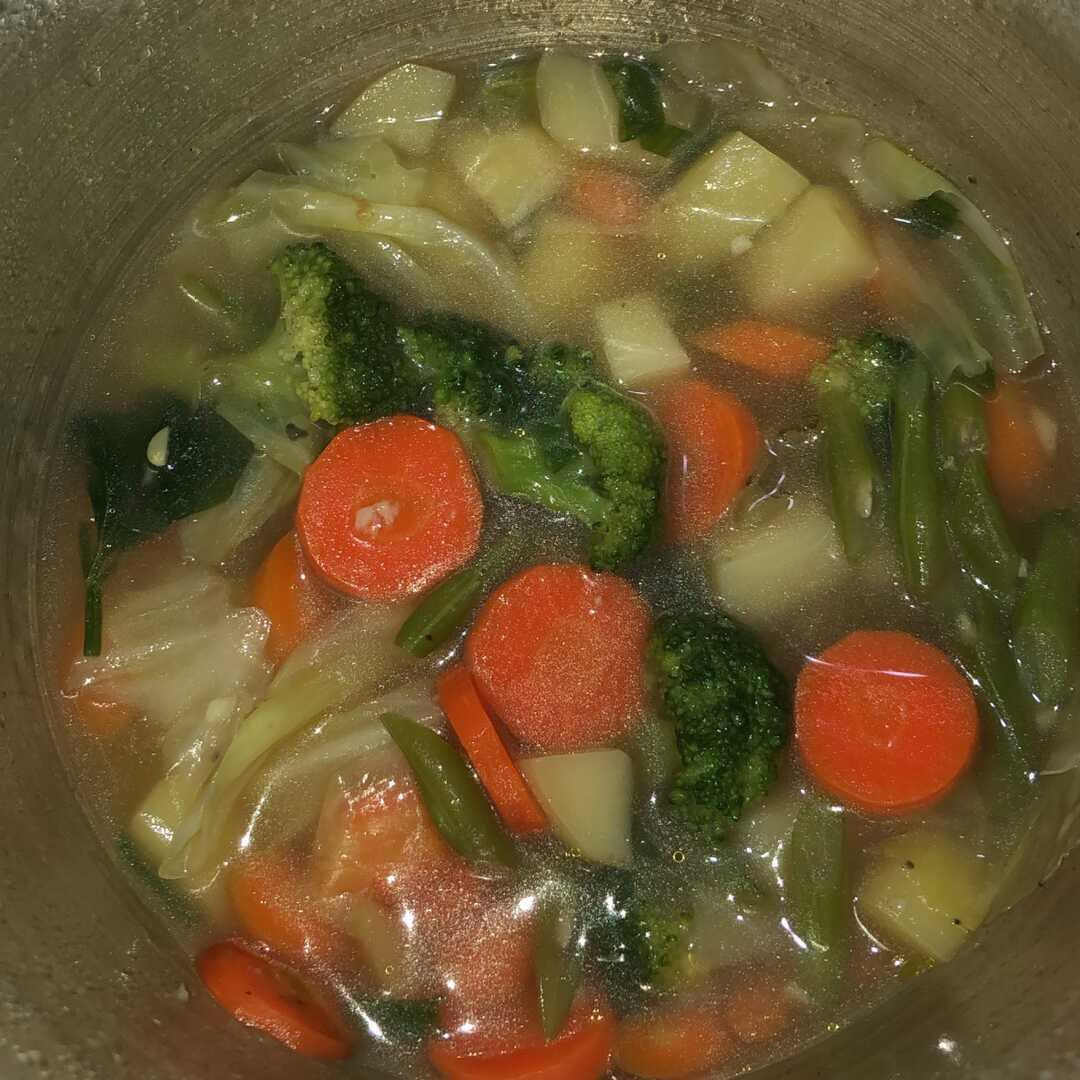buah_sayur_lainnya: (665, 633, 763, 828), (493, 388, 620, 528)
buah_sayur_vitA: (301, 431, 470, 583), (495, 578, 637, 731), (820, 633, 950, 794)
